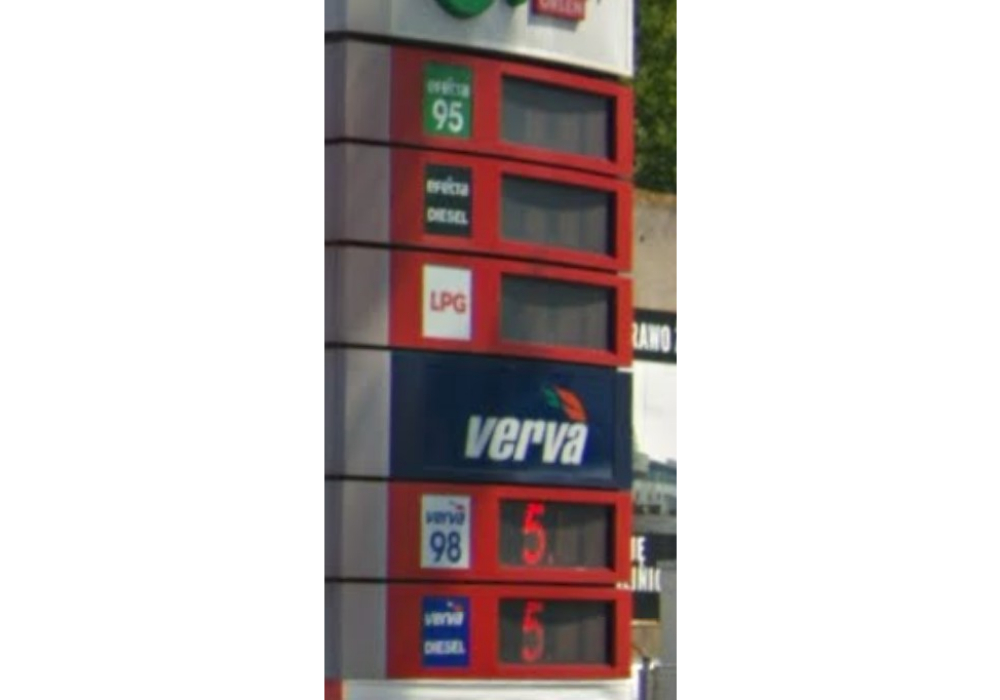LPG: (419, 259, 474, 344)
PB95: (419, 59, 475, 140)
PB98: (414, 488, 474, 572)
